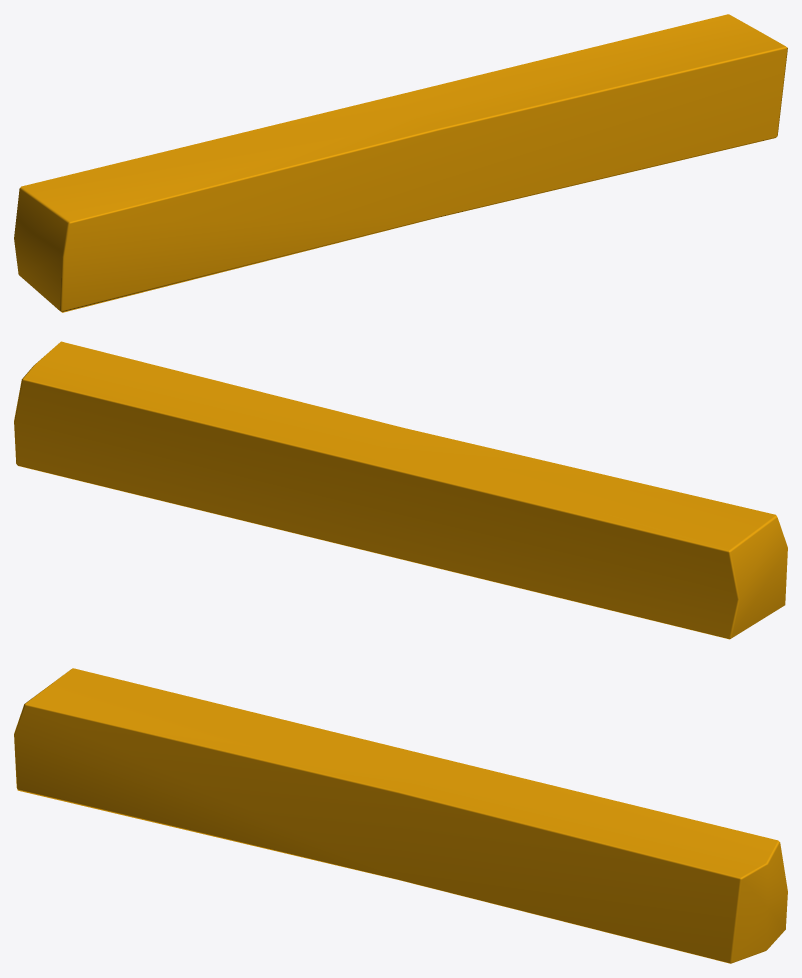
File: Beam_05.fbx
3 renders of one model, top to bottom at view 1: azimuth 30°, elevation 25°; view 2: azimuth 150°, elevation 25°; view 3: azimuth 330°, elevation 25°, orthographic.
Visible parts, largest first — view 1: Beam_05; view 2: Beam_05; view 3: Beam_05.
Boxes of the visible parts, x1,y1,x2,y2 form: Beam_05: (14,14,787,312); Beam_05: (14,341,787,639); Beam_05: (14,668,787,963).
Size of the model in its own units: 128 by 15.49 by 15.74.
